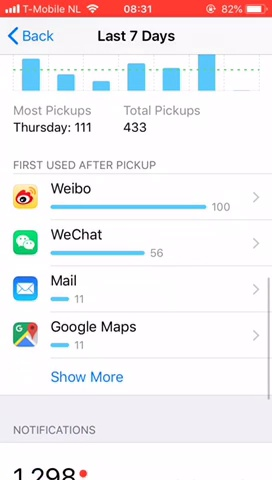pick_app: (8, 175, 238, 214), (9, 224, 175, 259), (7, 268, 143, 307), (8, 316, 156, 351)
pick_over: (12, 104, 222, 143)
week: (92, 25, 178, 45)
